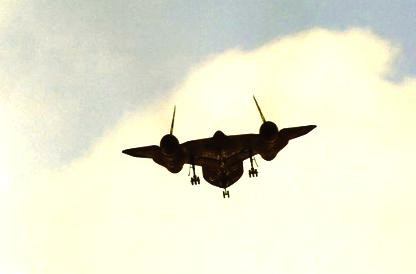Rafale: (121, 93, 317, 197)
